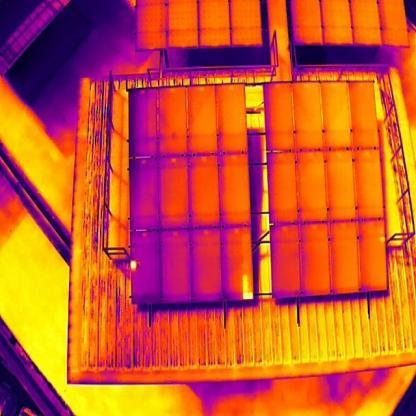anomaly: (241, 273, 255, 300), (130, 258, 138, 271), (379, 235, 386, 243)
